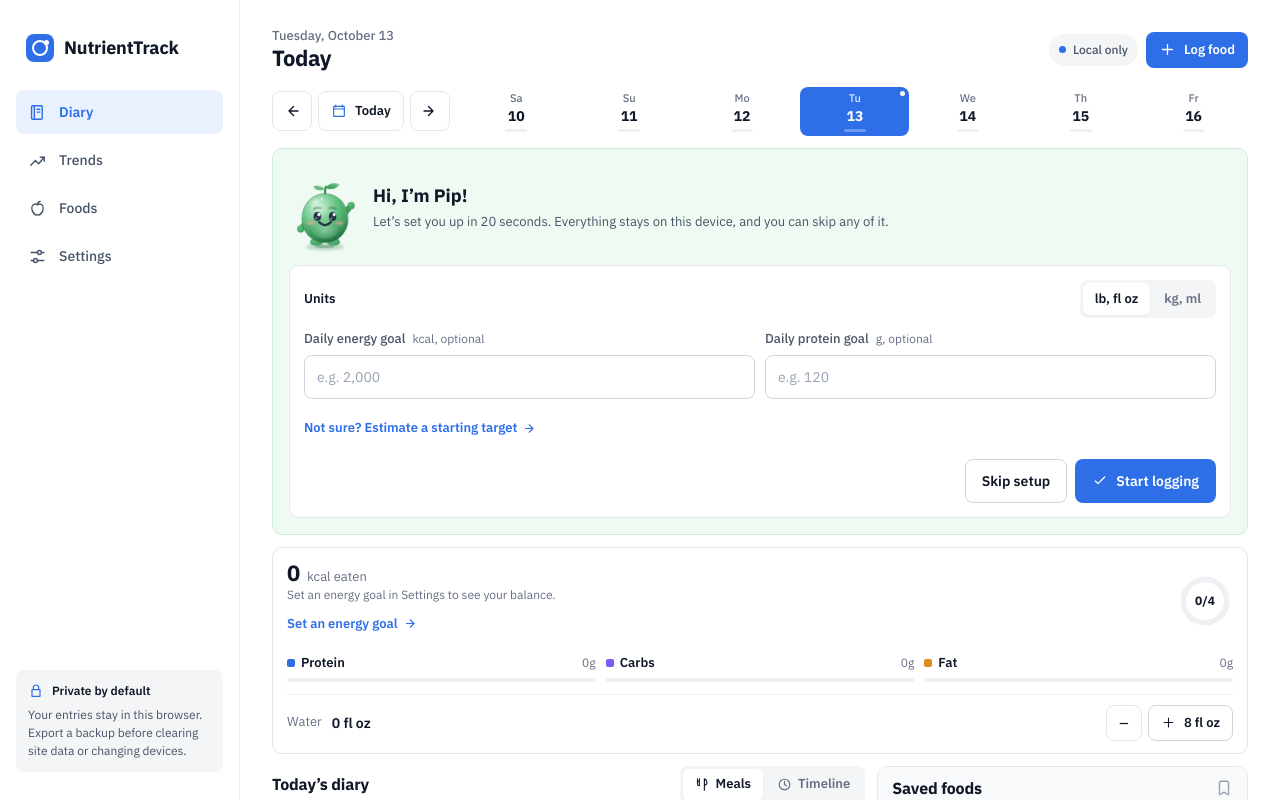
Test: New recipe dialog validation › requires a name
Click the button "Foods".
click(120, 208)  # box [16,186,223,230]
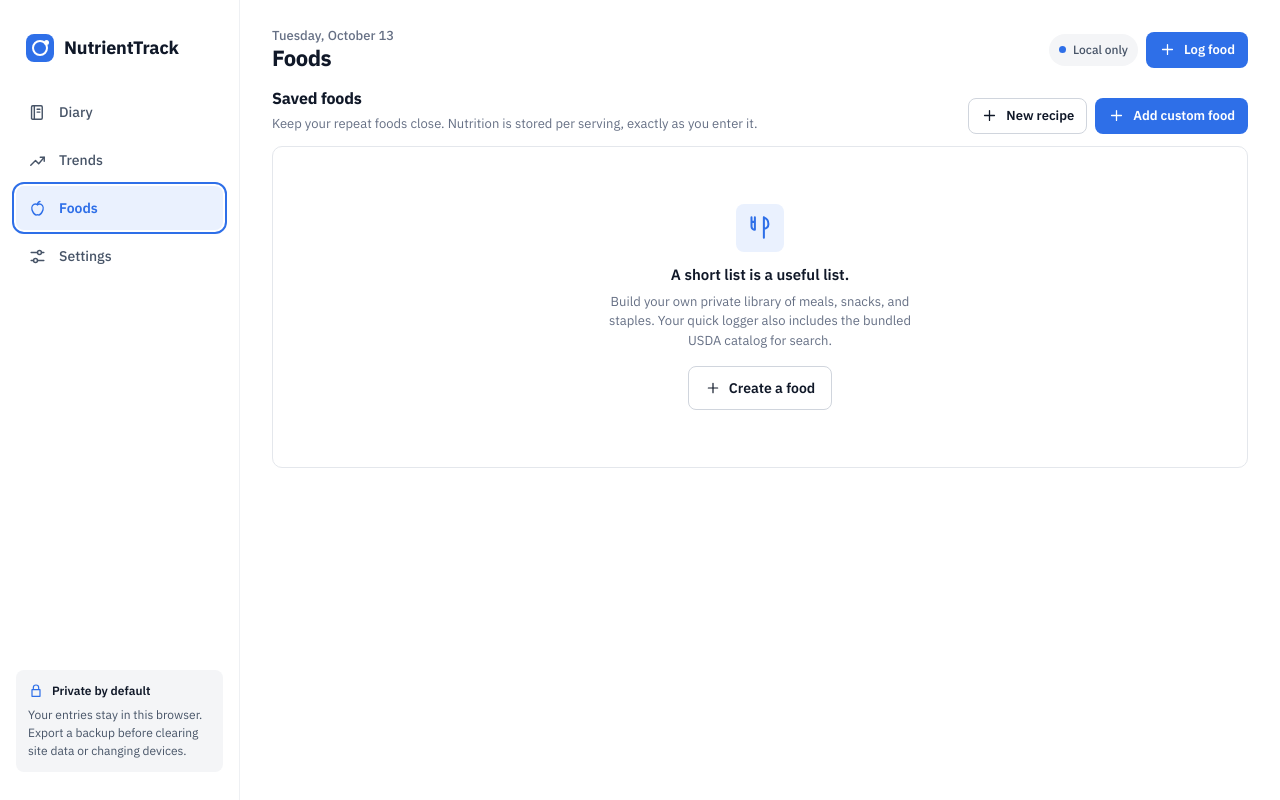
Click the button "New recipe".
click(1028, 116)  # box [968,98,1087,134]
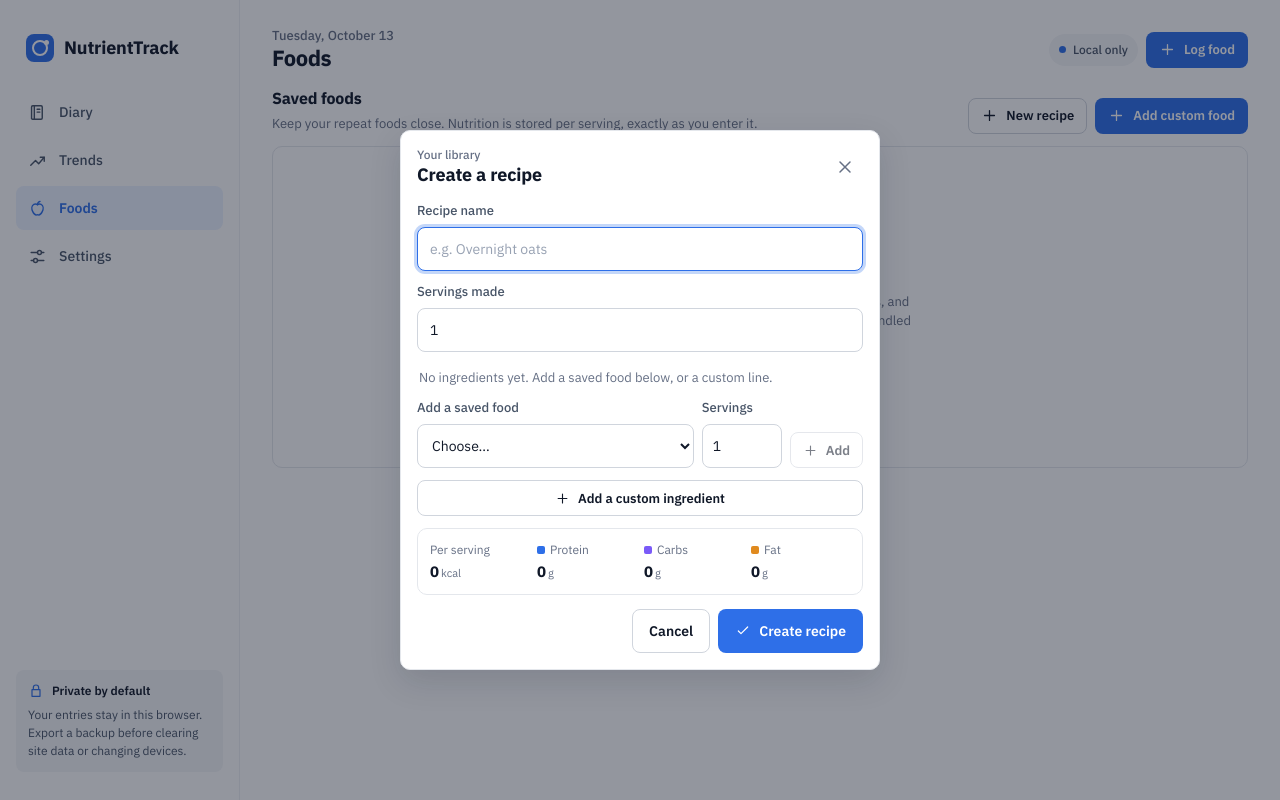
Expected: the heading "Create a recipe" is shown, [417,162,542,188]
Click the button "Add a custom ingredient".
click(640, 498)  # box [417,480,863,516]
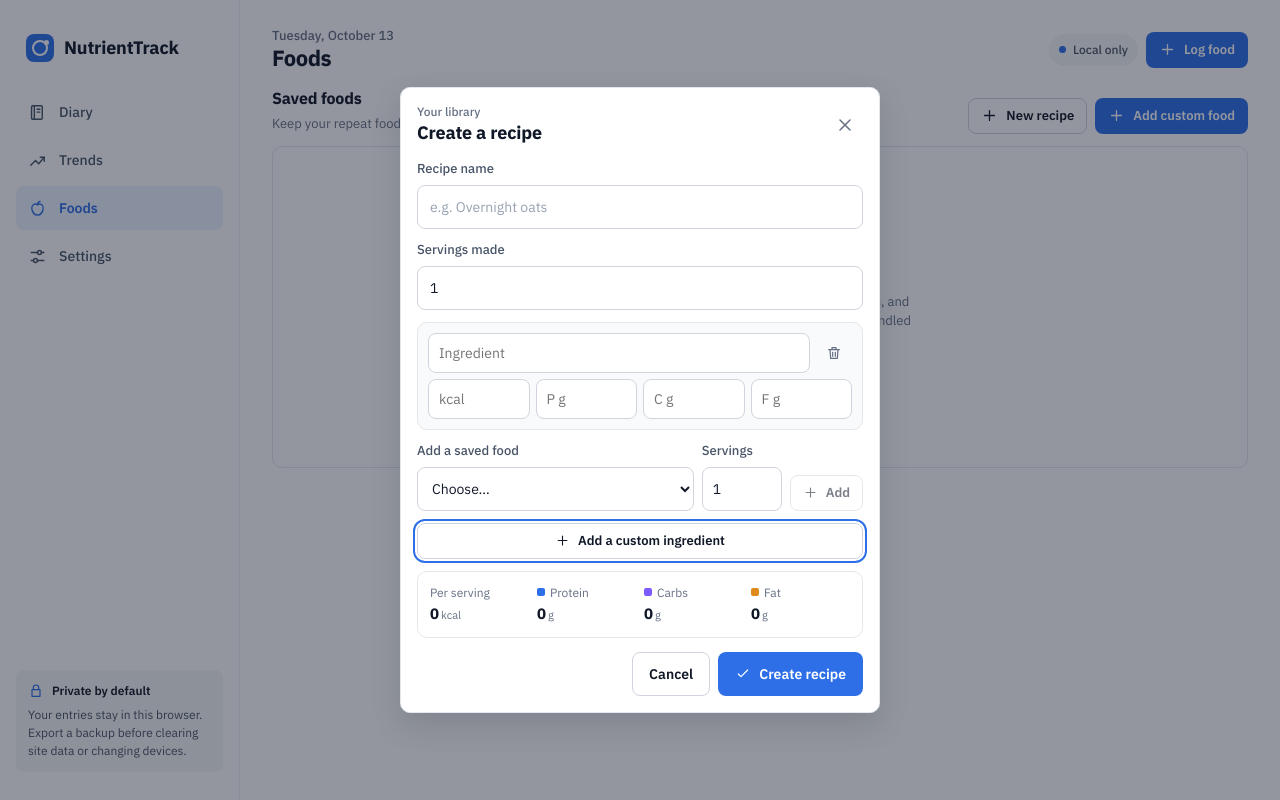
Type "Beans" into the field named "Ingredient 1 name".
click(619, 353); type("Beans")  # box [428,333,810,373]
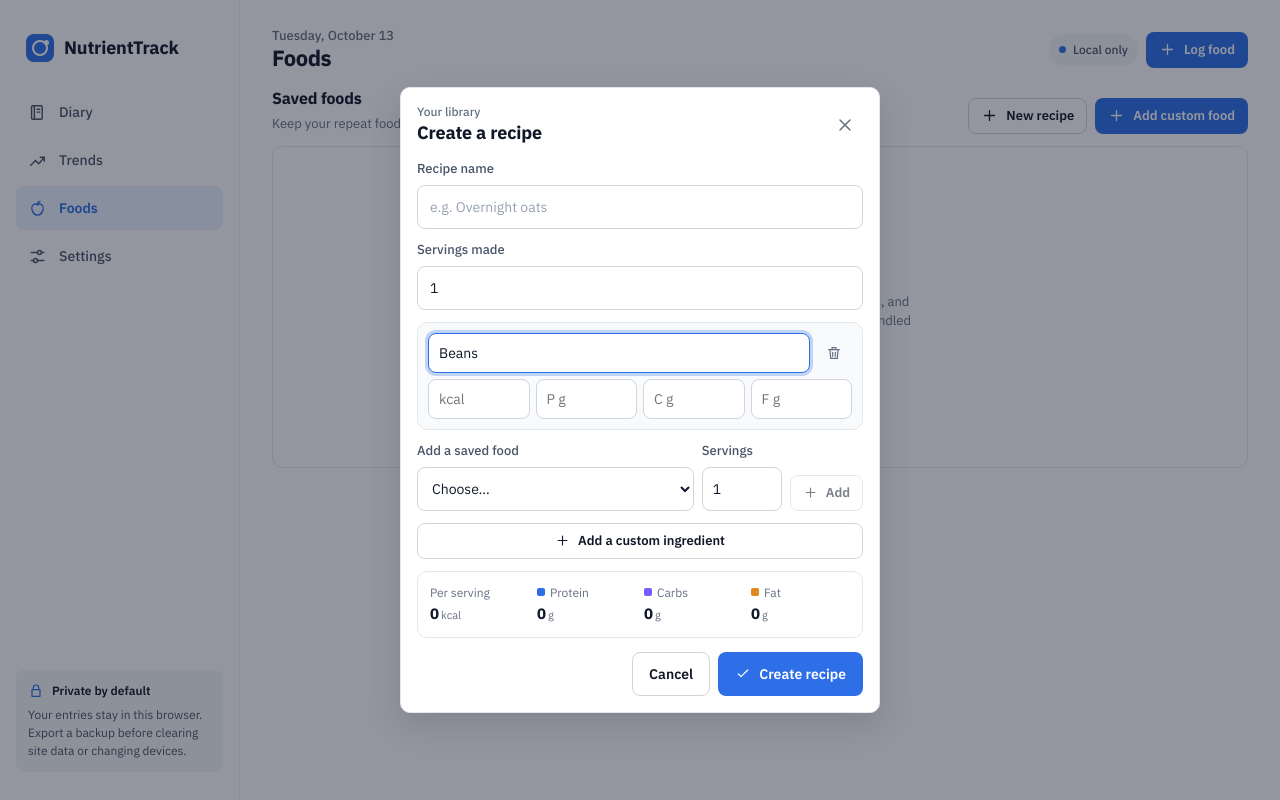
Type "100" into the number field named "Ingredient 1 calories".
click(479, 399); type("100")  # box [428,379,530,419]
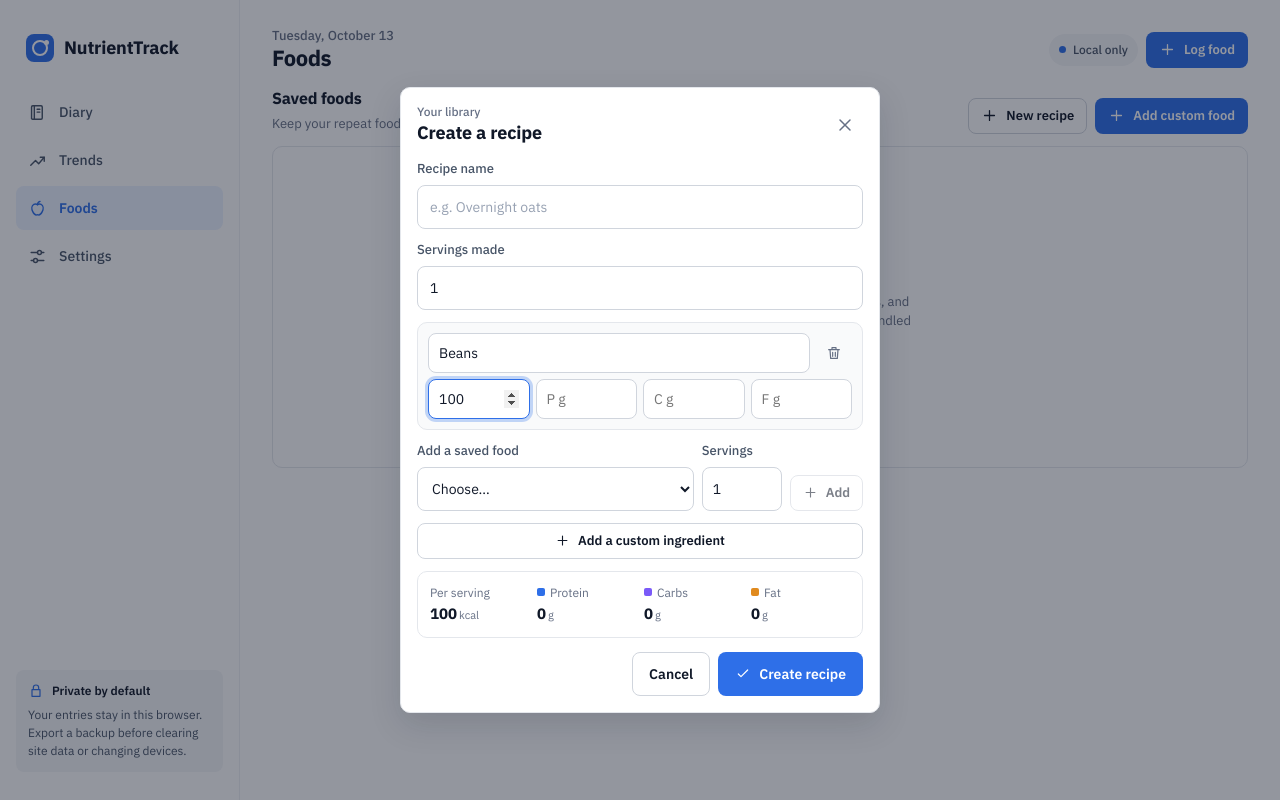
Click the button "Create recipe".
click(791, 674)  # box [718,652,863,696]
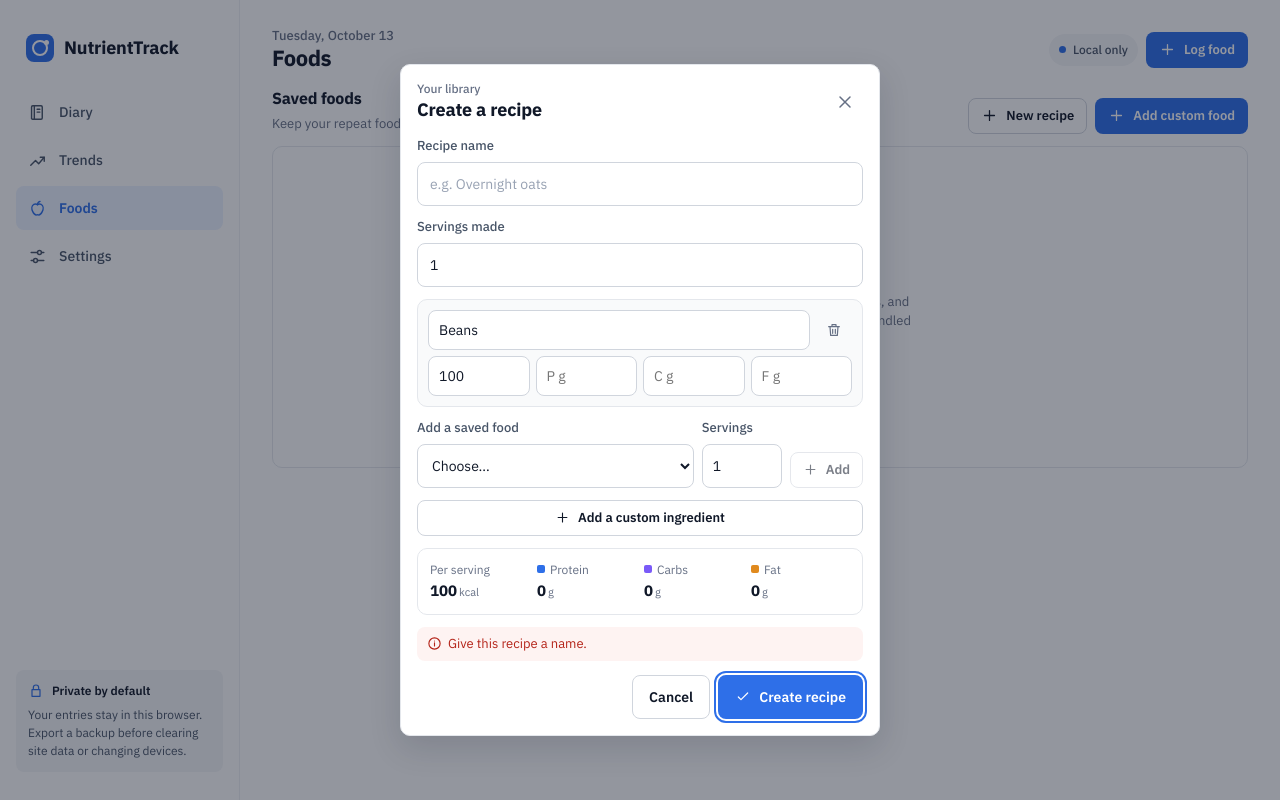
Expected: the message reads "Give this recipe a name.", [448,635,587,652]
